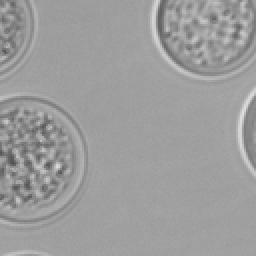picoshell: (0, 92, 86, 226), (150, 0, 254, 78), (236, 86, 254, 176)
